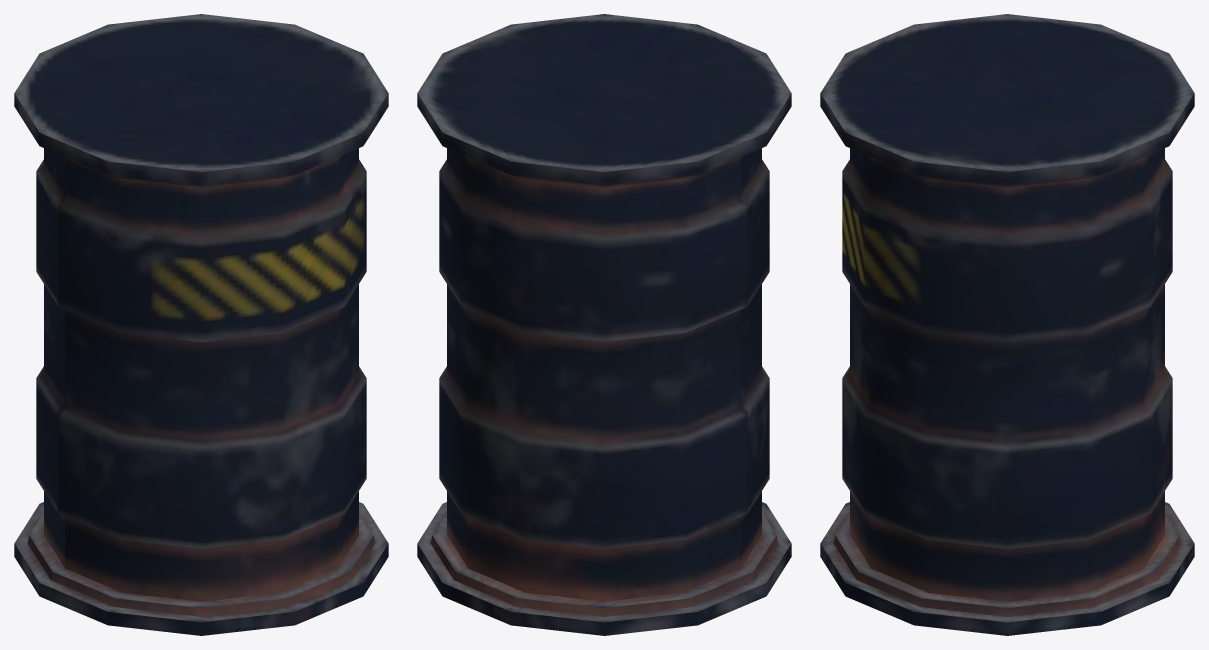
The model's file is barrel-size-1.glb.
The picture shows the model from 3 angles, left to right: view 1: azimuth 30°, elevation 25°; view 2: azimuth 150°, elevation 25°; view 3: azimuth 270°, elevation 25°; orthographic projection.
Visible parts, largest first — view 1: Pipe_Large_Vert_Straight_Prefab; view 2: Pipe_Large_Vert_Straight_Prefab; view 3: Pipe_Large_Vert_Straight_Prefab.
Part boxes in pixels (box(x1,y1,x2,y2)): Pipe_Large_Vert_Straight_Prefab: box(14, 14, 388, 635); Pipe_Large_Vert_Straight_Prefab: box(417, 14, 791, 635); Pipe_Large_Vert_Straight_Prefab: box(820, 14, 1194, 635).
Bounding box in the file's own units: 1.46 × 2 × 1.46.
1 material, 1 textured.
